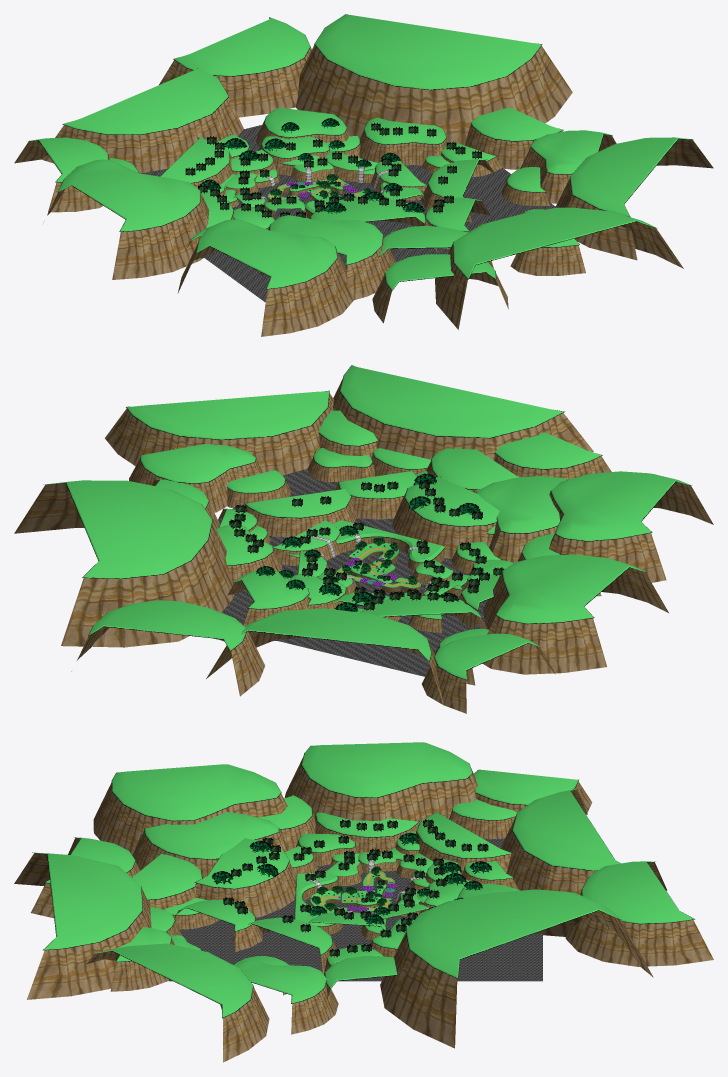
3 renders of one model, top to bottom at view 1: azimuth 30°, elevation 25°; view 2: azimuth 150°, elevation 25°; view 3: azimuth 270°, elevation 25°, orthographic. The views are drawn at different scales.
Parts seen in each view (by area): view 1: obj_grassMesh.008, obj_rockMesh.006, obj_grassedgeMesh, obj_bigbushMesh, obj_pochaMesh.004; view 2: obj_grassMesh.008, obj_rockMesh.006, obj_grassedgeMesh, obj_pochaMesh.004, obj_bigbushMesh, obj_leafMesh.002; view 3: obj_grassMesh.008, obj_rockMesh.006, obj_pochaMesh.004, obj_grassedgeMesh, obj_bigbushMesh, obj_leafMesh.002.
Part boxes in pixels (x1,y1,x2,y2): obj_grassMesh.008: (39,14,677,288); obj_rockMesh.006: (14,45,713,336); obj_grassedgeMesh: (28,14,693,290); obj_bigbushMesh: (185,118,481,217); obj_pochaMesh.004: (139,125,555,301); obj_grassMesh.008: (67,365,689,678); obj_rockMesh.006: (14,379,713,713); obj_grassedgeMesh: (43,365,691,680); obj_pochaMesh.004: (218,468,487,676); obj_bigbushMesh: (229,473,504,611); obj_leafMesh.002: (342,537,417,584); obj_grassMesh.008: (45,742,692,1016); obj_rockMesh.006: (14,757,713,1062); obj_pochaMesh.004: (168,838,542,981); obj_grassedgeMesh: (32,745,694,1018); obj_bigbushMesh: (212,819,491,957); obj_leafMesh.002: (311,866,386,910).
Bounding box in the file's own units: 544501 × 66416 × 561086.
Materials: 14 (14 with a texture image).
